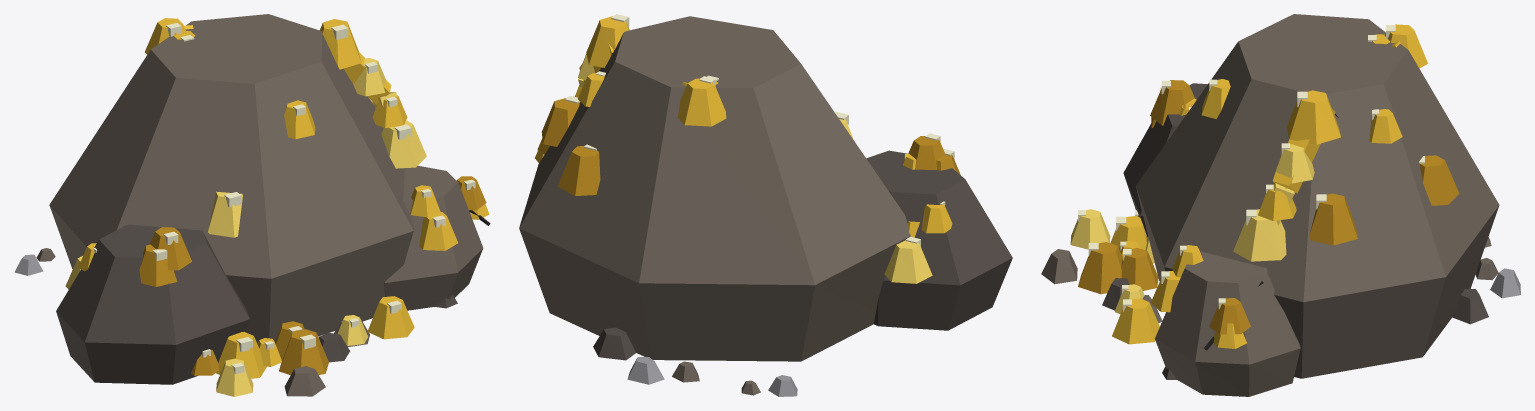
The model's file is gold_1.obj.
The picture shows the model from 3 angles, left to right: view 1: azimuth 30°, elevation 25°; view 2: azimuth 150°, elevation 25°; view 3: azimuth 270°, elevation 25°; orthographic projection. The views are drawn at different scales.
Parts seen in each view (by area): view 1: Boulder, Nugget, Nugget.Shine, Pebble, Vein; view 2: Boulder, Nugget, Pebble, Nugget.Shine; view 3: Boulder, Nugget, Pebble, Nugget.Shine, Vein.
Part boxes in pixels (bbox=[...]): Boulder: bbox=[49, 14, 483, 384]; Nugget: bbox=[65, 18, 489, 396]; Nugget.Shine: bbox=[93, 23, 475, 374]; Pebble: bbox=[14, 248, 457, 396]; Vein: bbox=[184, 25, 396, 128]; Boulder: bbox=[519, 16, 1012, 361]; Nugget: bbox=[535, 16, 960, 283]; Pebble: bbox=[593, 327, 797, 396]; Nugget.Shine: bbox=[565, 14, 954, 246]; Boulder: bbox=[1123, 14, 1499, 396]; Nugget: bbox=[1070, 24, 1459, 348]; Pebble: bbox=[1041, 237, 1520, 379]; Nugget.Shine: bbox=[1078, 25, 1424, 312]; Vein: bbox=[1179, 41, 1400, 225].
Size of the model in its own units: 2.84 by 1.55 by 2.6.
